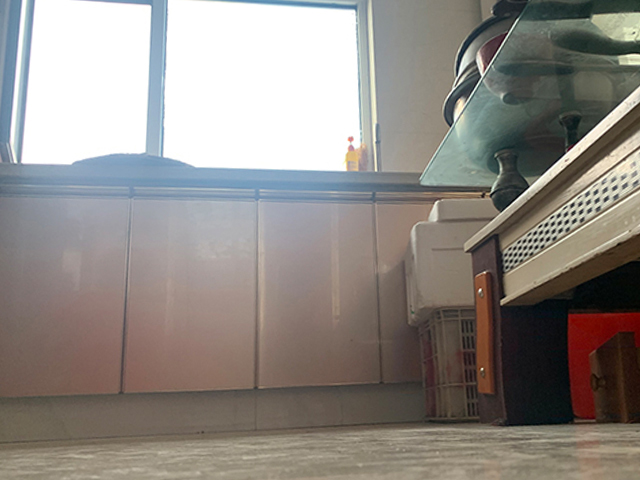cabinet: (1, 171, 379, 443)
table: (418, 1, 640, 427)
